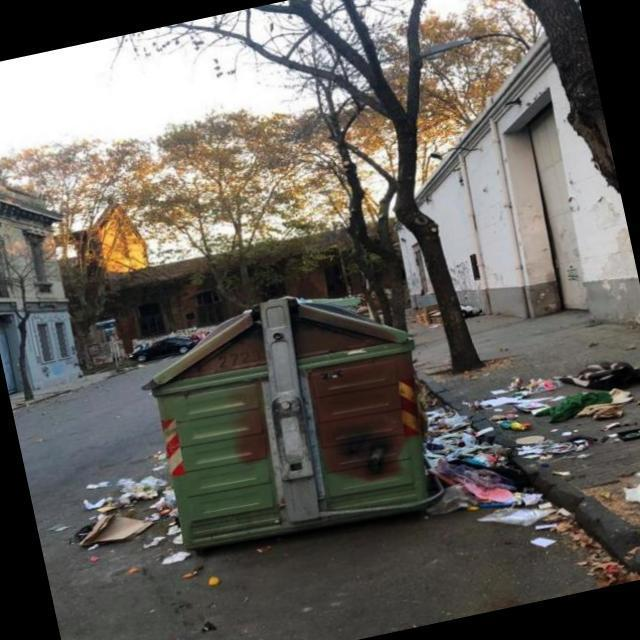garbage: (35, 433, 194, 591), (412, 382, 558, 548), (503, 344, 640, 485), (614, 461, 640, 514)
